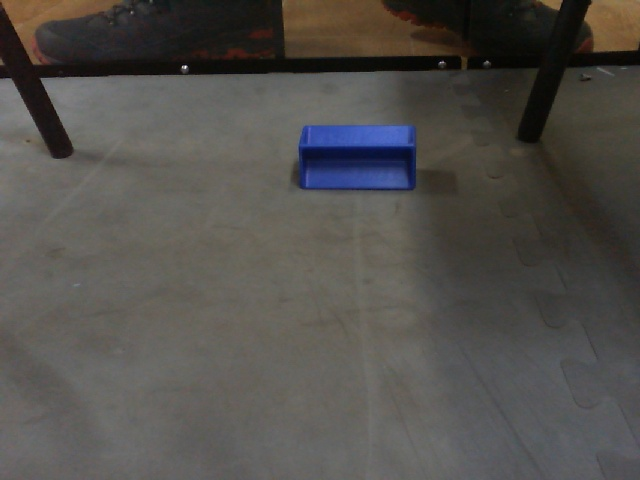BlueSample: (295, 117, 422, 198)
